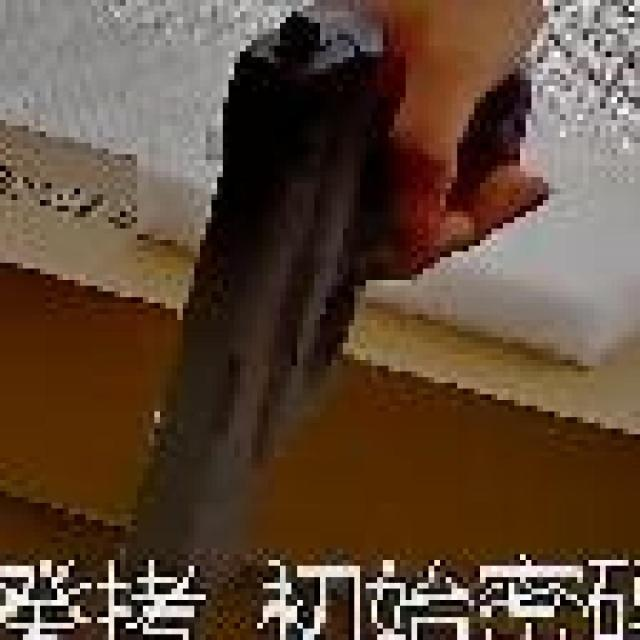pistol: (91, 2, 559, 620)
